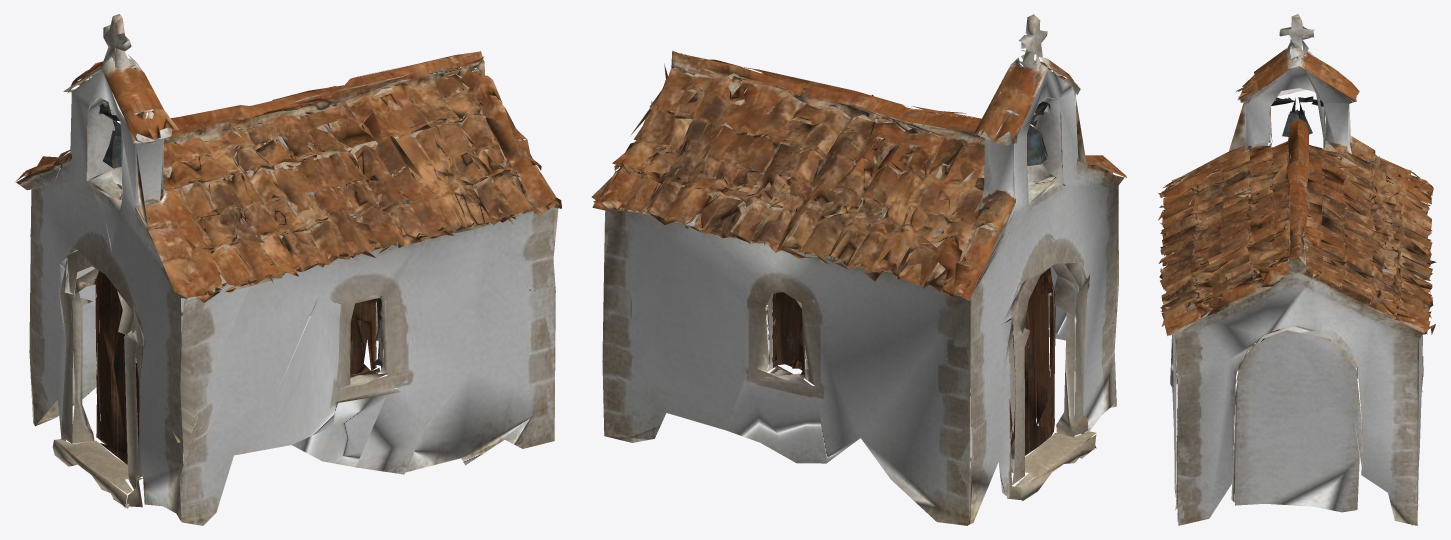
The model's file is serra_kapelle.glb.
3 renders of one model, left to right at view 1: azimuth 30°, elevation 25°; view 2: azimuth 150°, elevation 25°; view 3: azimuth 270°, elevation 25°, orthographic. The views are drawn at different scales.
Visible parts, largest first — view 1: Prop; view 2: Prop; view 3: Prop.
Boxes of the visible parts, x1,y1,x2,y2 form: Prop: [15, 14, 561, 525]; Prop: [591, 14, 1126, 525]; Prop: [1158, 14, 1436, 525].
Size of the model in its own units: 0.9245 by 1.01 by 0.6886.
Materials: 1 (1 with a texture image).
